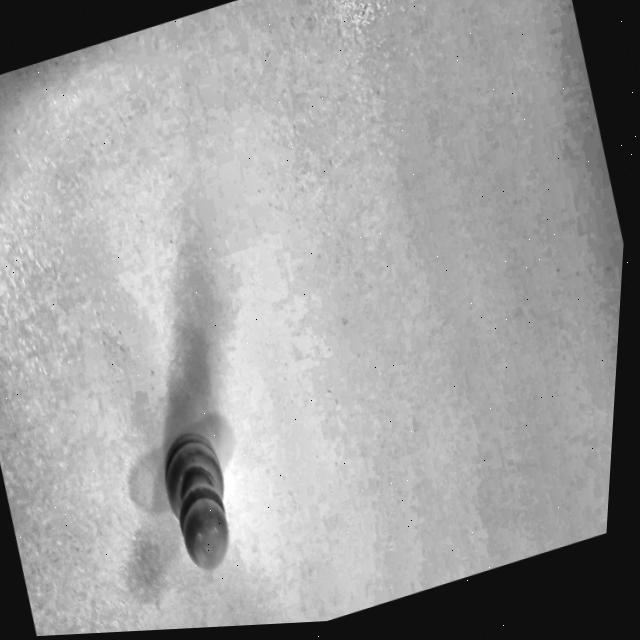white-pawn: (100, 400, 277, 632)
